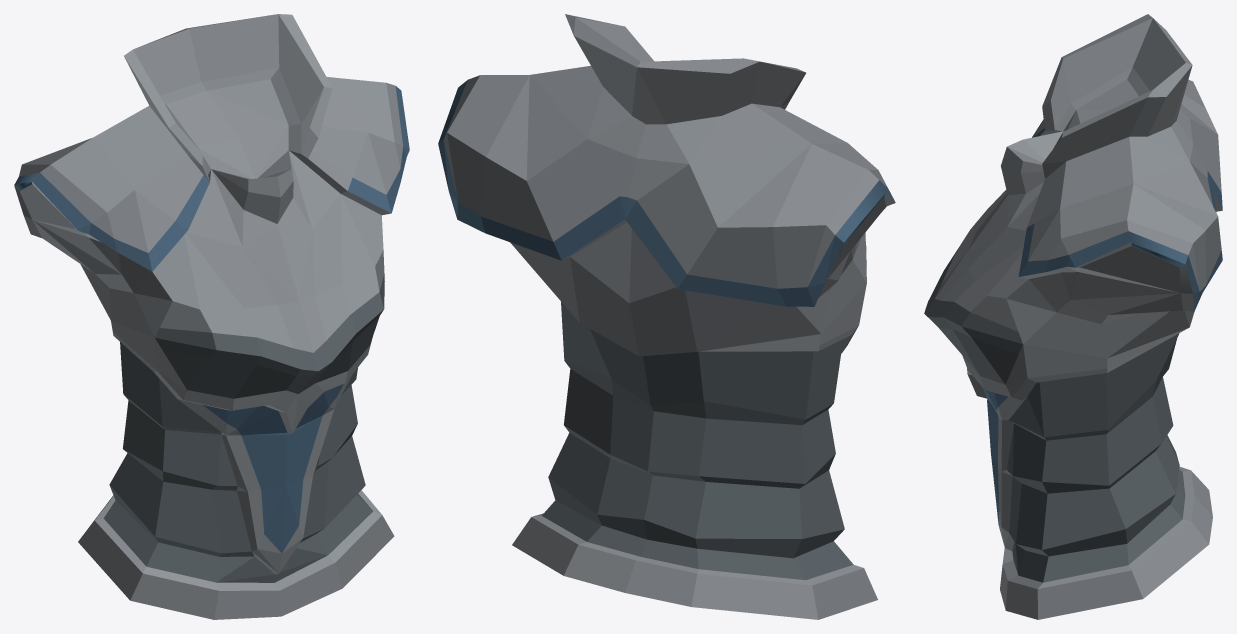
The model's file is Chr_Torso_Female_19_Static.fbx.
3 views of the same model, side by side, from view 1: azimuth 30°, elevation 25°; view 2: azimuth 150°, elevation 25°; view 3: azimuth 270°, elevation 25° (orthographic). The views are drawn at different scales.
Parts seen in each view (by area): view 1: Chr_Torso_Female_19_Static; view 2: Chr_Torso_Female_19_Static; view 3: Chr_Torso_Female_19_Static.
Boxes of the visible parts, x1=… form: Chr_Torso_Female_19_Static: x1=14, y1=14, x2=409, y2=619; Chr_Torso_Female_19_Static: x1=438, y1=14, x2=895, y2=619; Chr_Torso_Female_19_Static: x1=924, y1=14, x2=1222, y2=619.
Bounding box in the file's own units: 0.5213 × 0.7128 × 0.3602.
